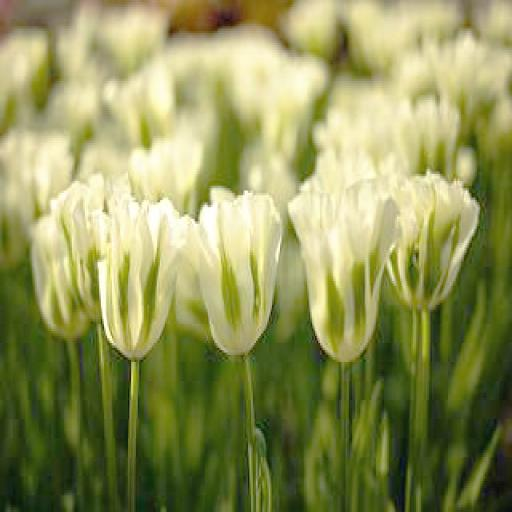tulip: (288, 190, 410, 362), (188, 193, 282, 352), (101, 198, 189, 360), (392, 171, 477, 305)
